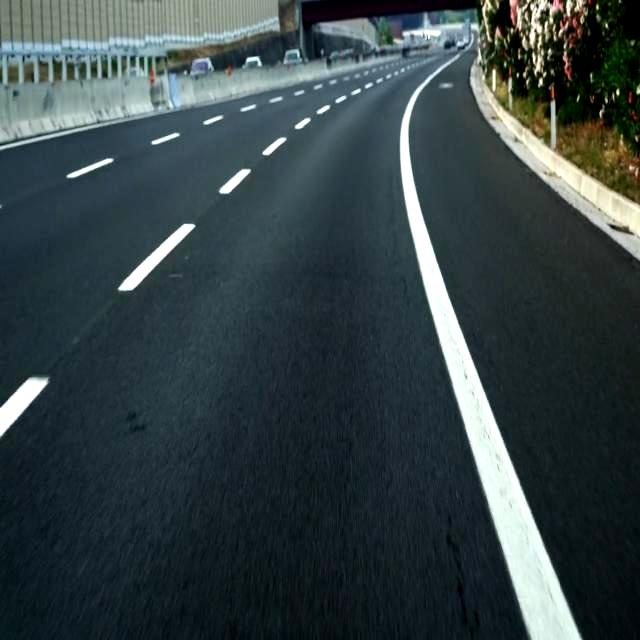lane: (400, 55, 582, 640), (119, 224, 195, 291), (0, 378, 48, 437), (66, 159, 114, 178), (219, 169, 251, 194), (262, 138, 288, 156)
road: (0, 56, 527, 639), (410, 52, 639, 639)
